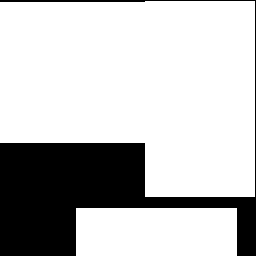rumex: (145, 1, 254, 196), (0, 2, 144, 142), (76, 208, 236, 256)
